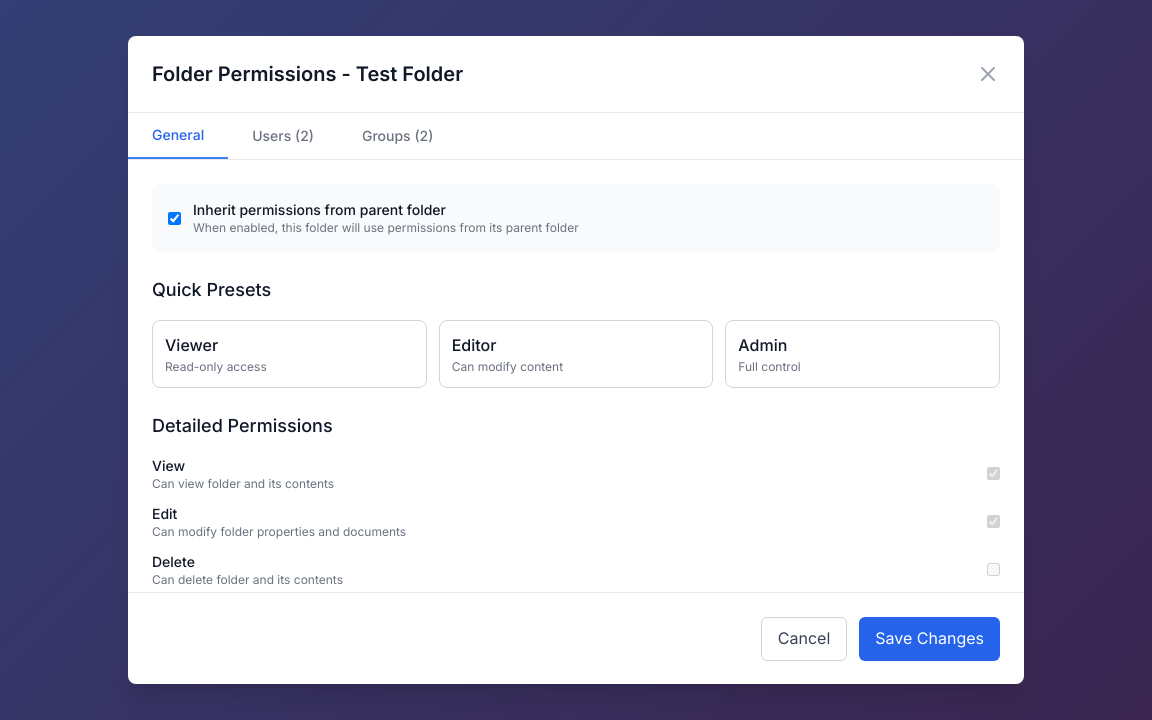
FolderPermissions › Tab Navigation › can switch to users tab
Click the button "Users (2)" at (283, 136), box [228,113,338,159]
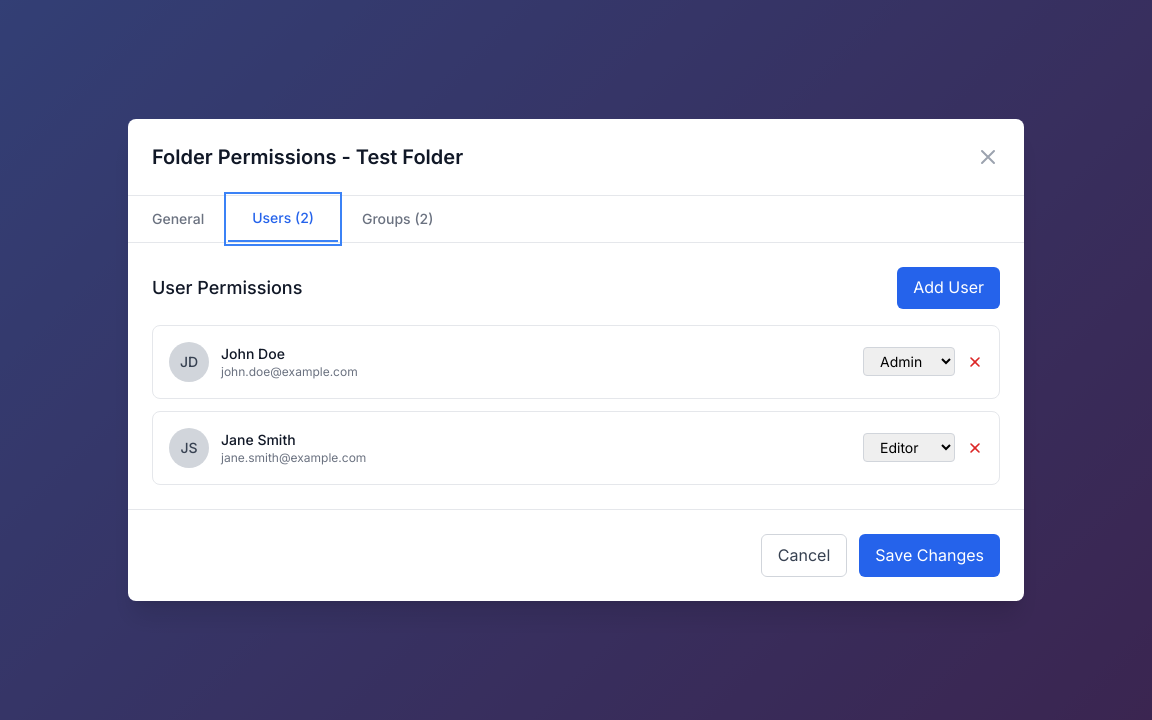
Expected: the text "John Doe" is shown, [221,344,285,362]
